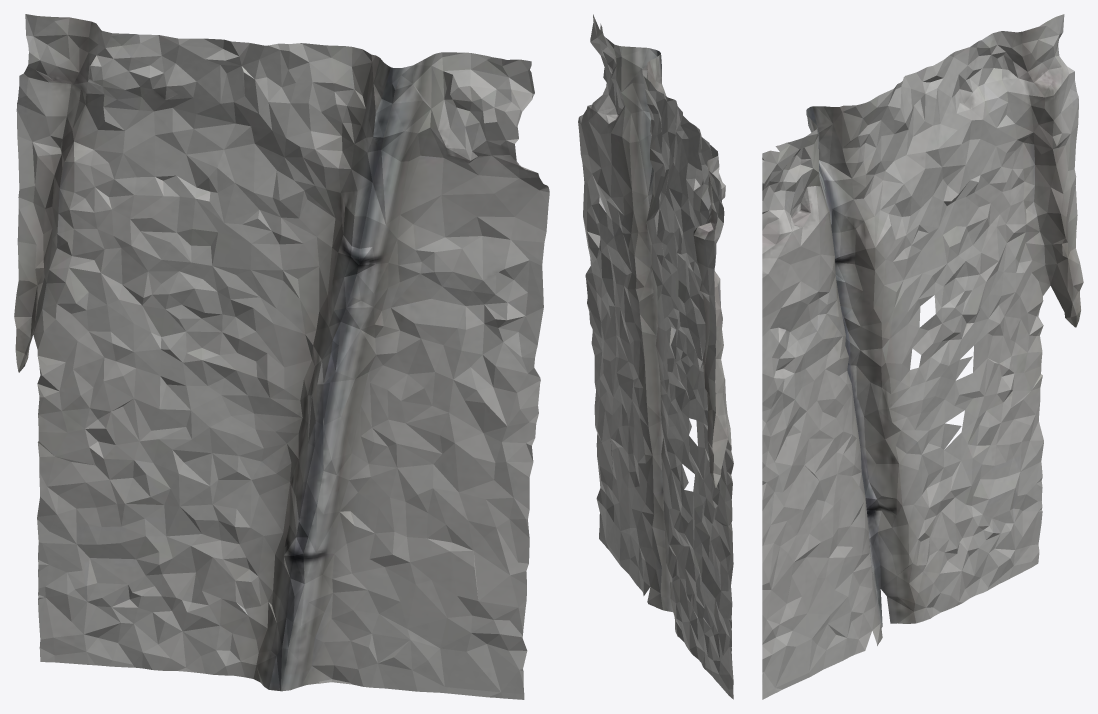
3 views of the same model, side by side, from view 1: azimuth 30°, elevation 25°; view 2: azimuth 150°, elevation 25°; view 3: azimuth 270°, elevation 25° (orthographic). The views are drawn at different scales.
Bounding box in the file's own units: 0.4808 × 0.8373 × 0.4438.
Materials: 2 (2 with a texture image).
